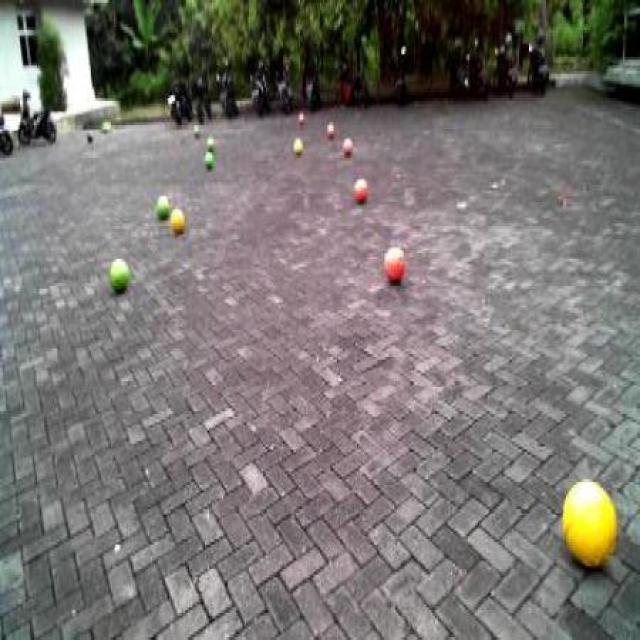buoy: (556, 468, 619, 577), (382, 236, 406, 286), (108, 252, 130, 296), (167, 201, 187, 237)
